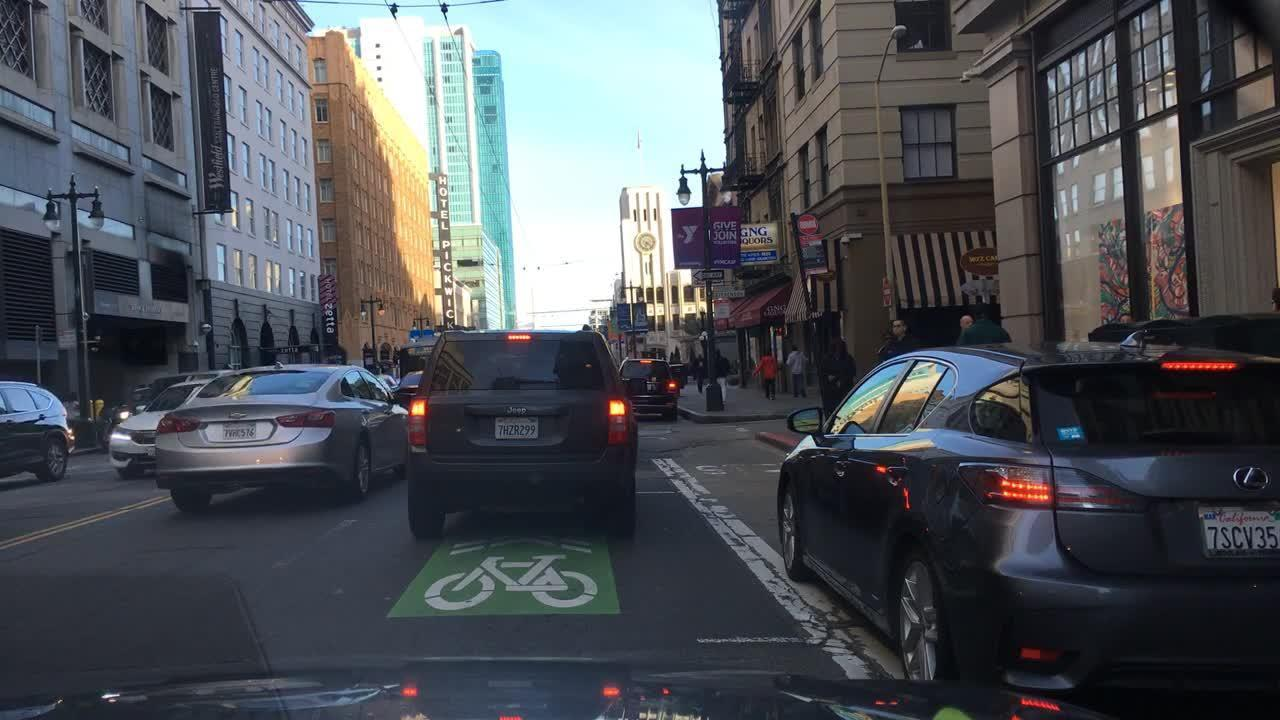chevrolet: (223, 407, 253, 423)
jeep: (500, 400, 534, 422)
lexus: (1227, 459, 1272, 497)
